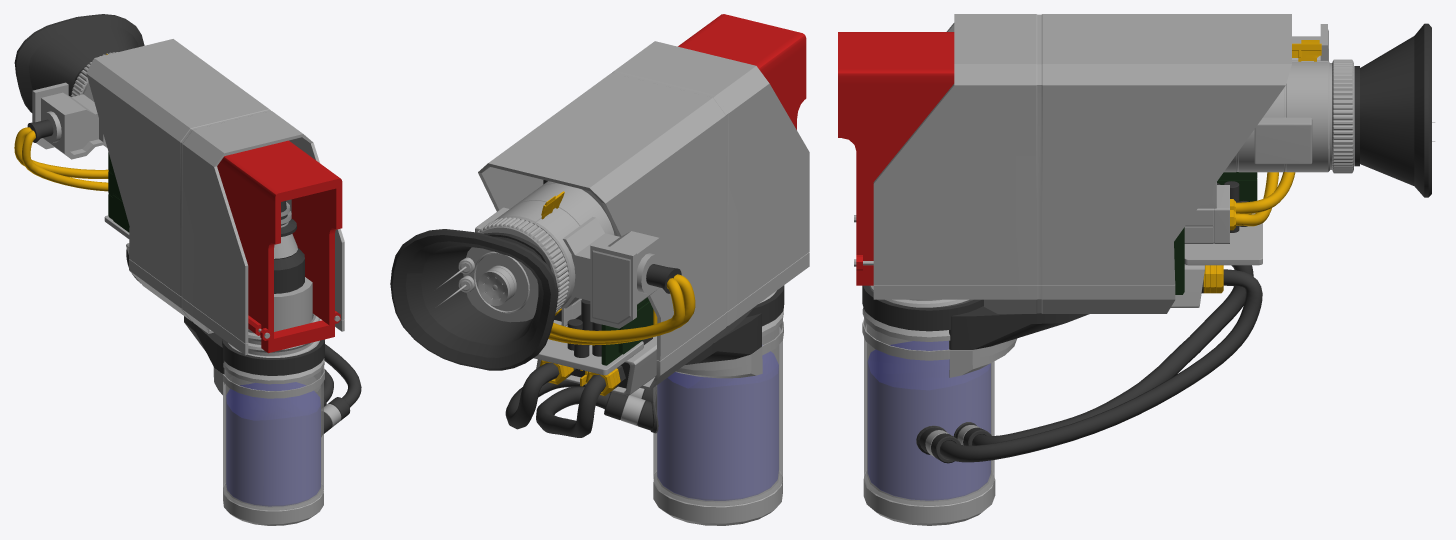
File: Neuromod from Prey.fbx
3 views of the same model, side by side, from view 1: azimuth 30°, elevation 25°; view 2: azimuth 150°, elevation 25°; view 3: azimuth 270°, elevation 25° (orthographic). The views are drawn at different scales.
Parts seen in each view (by area): view 1: pCube4, pCube1, polySurface13, polySurface12, pCylinder51, pCube20, pCylinder34, pCylinder8, pCylinder9, pCylinder10, Cable_01, pCylinder7 (+8 smaller); view 2: pCube4, pCylinder51, polySurface13, polySurface12, pCube20, pCube1, pCylinder45, pCylinder8, Cable_00, Cable_05, polySurface11, Cable_04 (+10 smaller); view 3: pCube4, polySurface13, pCube1, polySurface12, pCylinder51, Cable_04, pCylinder45, Cable_00, pCylinder35, pCylinder8, pCube21, polySurface11 (+10 smaller).
Boxes of the visible parts, box(x1,y1,x2,y2) form: pCube4: box(86, 39, 344, 355); pCube1: box(217, 140, 342, 353); polySurface13: box(223, 366, 323, 510); polySurface12: box(227, 382, 320, 505); pCylinder51: box(14, 14, 144, 112); pCube20: box(32, 82, 107, 159); pCylinder34: box(222, 338, 324, 375); pCylinder8: box(223, 485, 323, 525); pCylinder9: box(248, 277, 312, 355); pCylinder10: box(274, 201, 304, 293); Cable_01: box(22, 130, 108, 191); pCylinder7: box(213, 366, 324, 398); pCube4: box(478, 41, 809, 389); pCylinder51: box(390, 229, 558, 370); polySurface13: box(653, 320, 782, 506); polySurface12: box(658, 352, 778, 500); pCube20: box(563, 217, 659, 328); pCube1: box(678, 14, 806, 129); pCylinder45: box(494, 181, 614, 309); pCylinder8: box(653, 472, 782, 525); Cable_00: box(536, 375, 610, 437); Cable_05: box(550, 278, 684, 342); polySurface11: box(477, 217, 569, 313); Cable_04: box(505, 363, 585, 429); pCube4: box(873, 14, 1291, 313); polySurface13: box(864, 318, 994, 505); pCube1: box(838, 32, 954, 285); polySurface12: box(868, 341, 990, 499); pCylinder51: box(1354, 23, 1434, 197); Cable_04: box(940, 269, 1262, 462); pCylinder45: box(1224, 60, 1331, 172); Cable_00: box(972, 265, 1253, 445); pCylinder35: box(949, 306, 1089, 349); pCylinder8: box(863, 472, 995, 525); pCube21: box(1254, 117, 1312, 164); polySurface11: box(1332, 59, 1353, 173).
Bounding box in the file's own units: 2.79 × 4.22 × 5.01.
